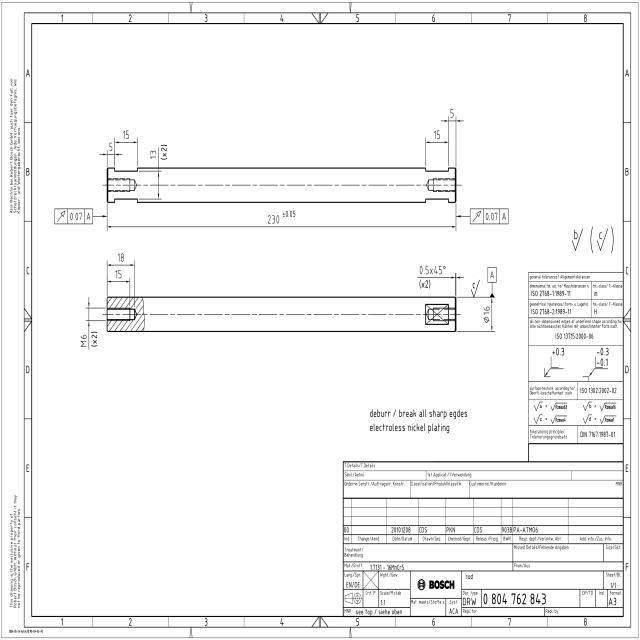dimension: (419, 263, 447, 290), (108, 127, 130, 155), (266, 208, 297, 226), (148, 143, 168, 161), (80, 329, 98, 348), (481, 304, 491, 324), (432, 128, 441, 141), (116, 252, 125, 264), (114, 268, 122, 280), (448, 107, 455, 119)
